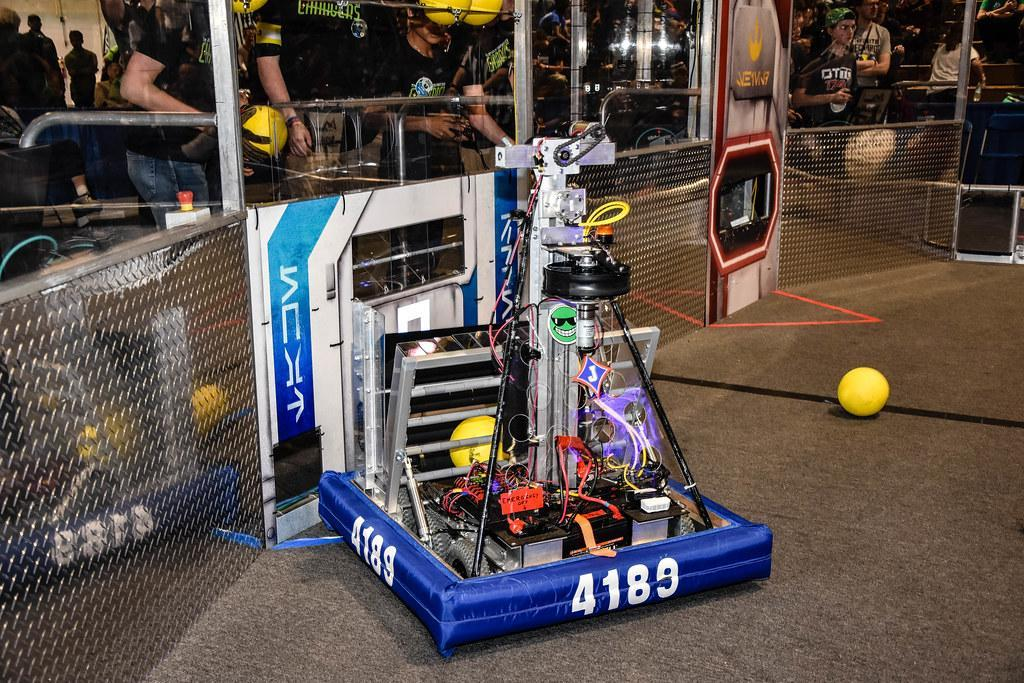robot: (313, 117, 779, 660)
